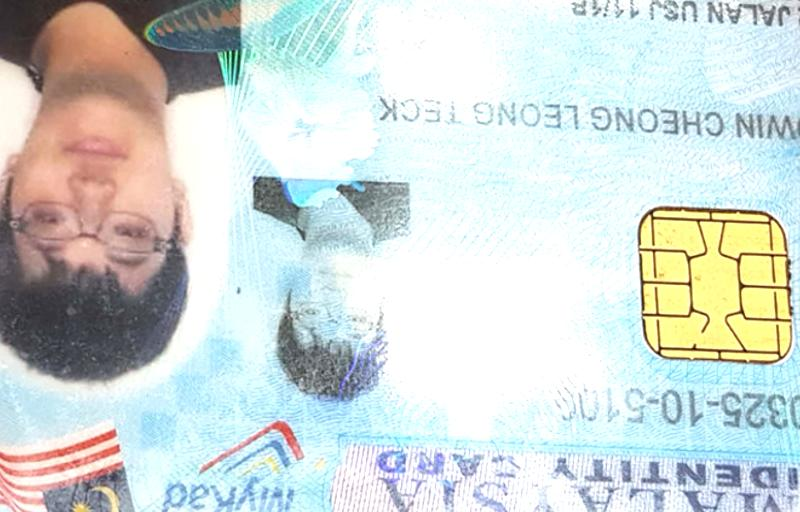hologramB: (241, 1, 378, 173)
